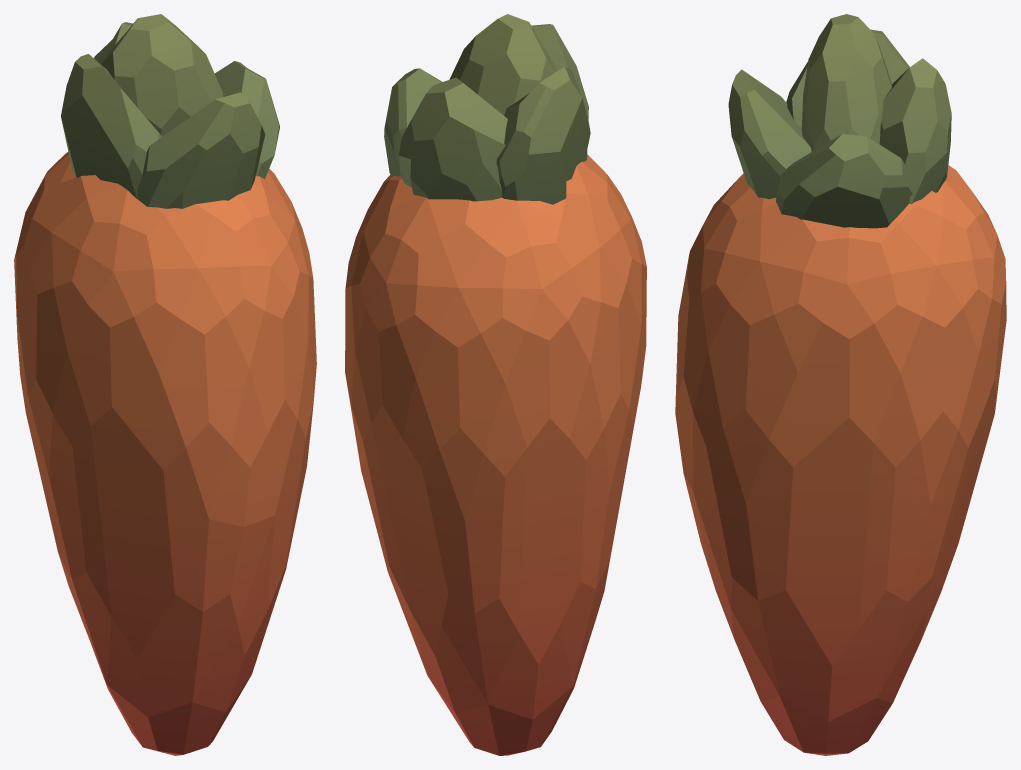
File: Carrot.fbx
The picture shows the model from 3 angles, left to right: view 1: azimuth 30°, elevation 25°; view 2: azimuth 150°, elevation 25°; view 3: azimuth 270°, elevation 25°; orthographic projection. The views are drawn at different scales.
Parts seen in each view (by area): view 1: Icosphere, Icosphere.001; view 2: Icosphere, Icosphere.001; view 3: Icosphere, Icosphere.001.
Part boxes in pixels (box(x1,y1,x2,y2)): Icosphere: box(14, 152, 316, 755); Icosphere.001: box(61, 14, 279, 208); Icosphere: box(345, 154, 646, 755); Icosphere.001: box(384, 14, 590, 204); Icosphere: box(675, 165, 1006, 755); Icosphere.001: box(728, 14, 951, 228).
Size of the model in its own units: 184 by 515 by 212.
